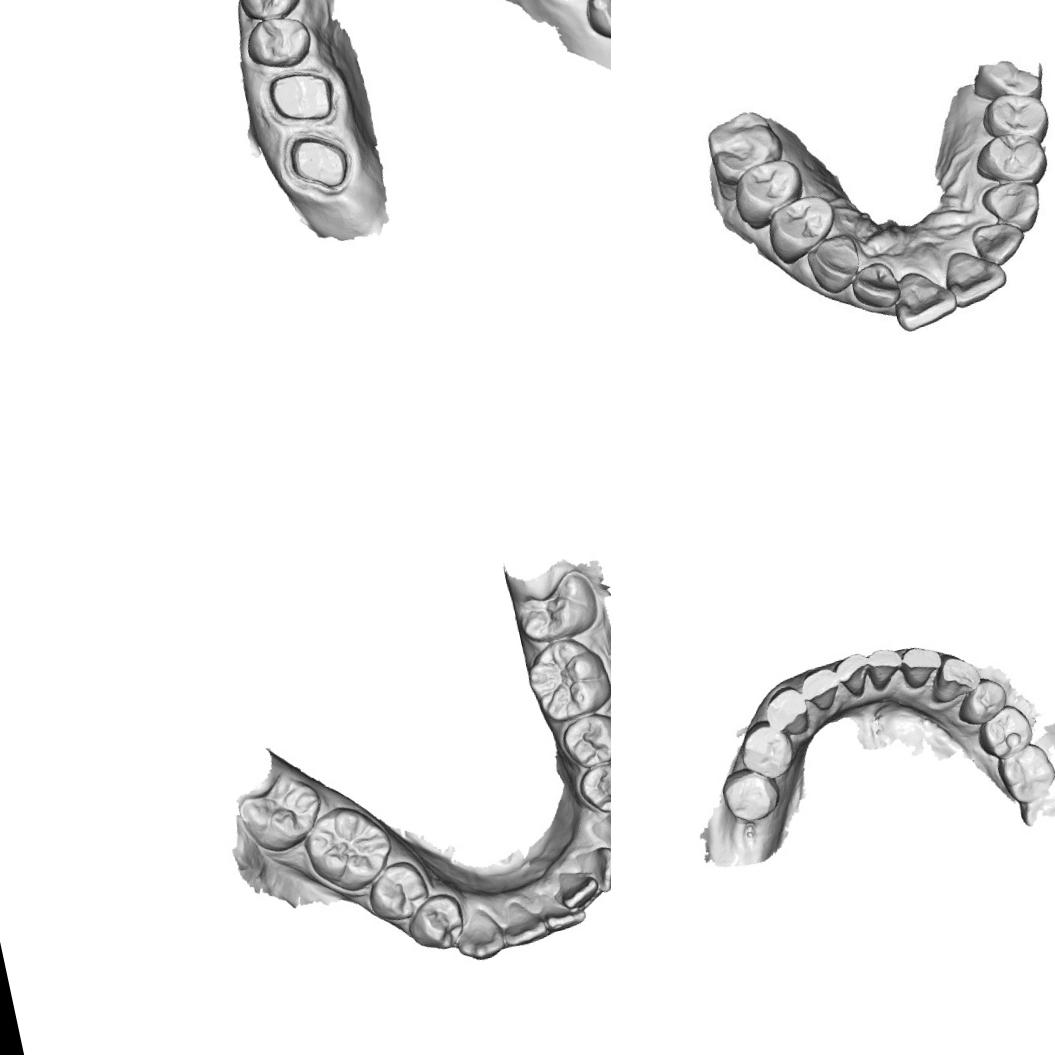canine: (448, 902, 510, 967), (806, 232, 866, 292), (924, 650, 984, 706), (759, 682, 813, 742), (983, 179, 1042, 233), (585, 806, 611, 869)
crown: (261, 59, 346, 134), (280, 124, 358, 200)
incisor: (890, 269, 961, 327), (946, 246, 1016, 302), (494, 888, 555, 951), (534, 882, 591, 938), (971, 213, 1028, 266), (854, 258, 912, 310), (551, 862, 605, 915), (898, 642, 946, 690), (798, 664, 844, 714), (832, 650, 875, 701), (864, 644, 906, 693), (577, 840, 611, 899)
molar: (295, 794, 402, 902), (229, 764, 332, 859), (518, 628, 611, 727), (506, 565, 606, 648), (704, 106, 782, 177), (992, 738, 1055, 807)
premolar: (762, 188, 843, 263), (238, 7, 320, 76), (731, 151, 806, 226), (361, 855, 436, 928), (972, 125, 1048, 191), (977, 83, 1054, 148), (401, 889, 471, 960), (734, 714, 800, 786), (717, 761, 784, 827), (972, 700, 1036, 762), (556, 705, 611, 773), (950, 673, 1012, 729), (571, 753, 611, 819), (231, 0, 313, 27)
